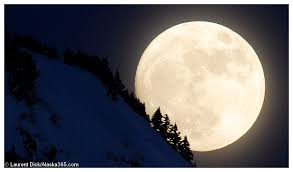moon: (130, 20, 267, 152)
